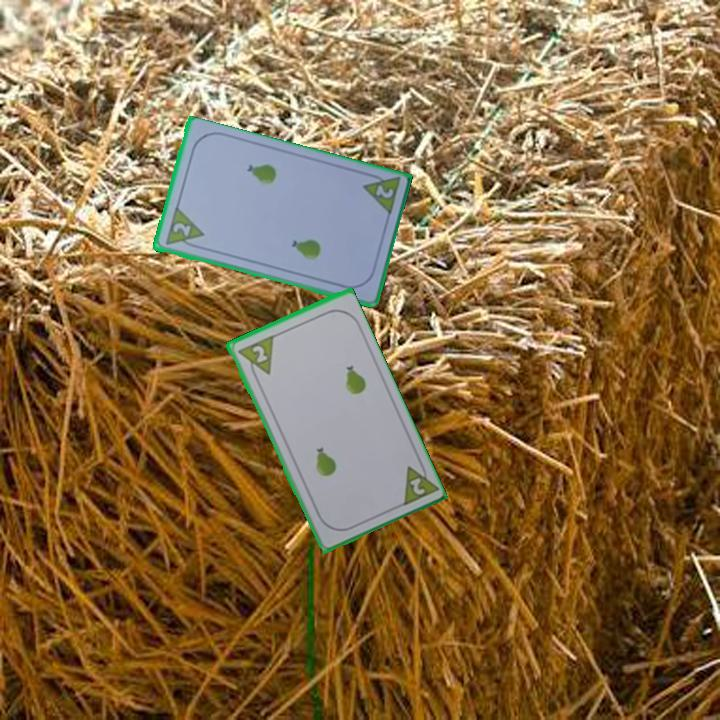2p: (358, 169, 403, 219), (397, 456, 439, 509), (233, 332, 276, 383), (161, 205, 206, 252)
